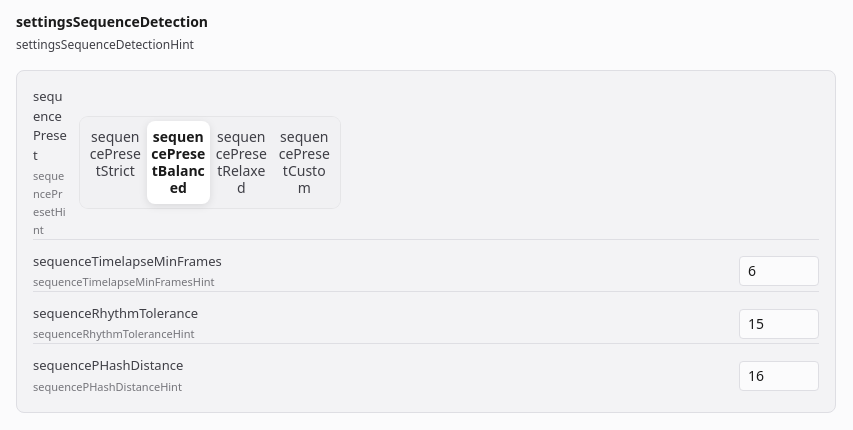
Test: settings save failures › does not let a late sequence load replace a queued change
This screenshot has width=853, height=430.
Click the radio button labelled "sequencePresetStrict" at (115, 154), box [90, 127, 141, 180]
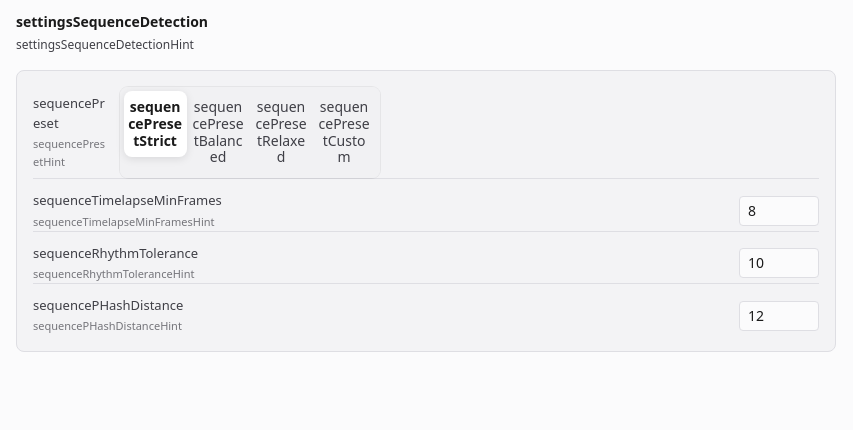
Expected: the radio button labelled "sequencePresetStrict" is checked, [124, 91, 187, 174]
Expected: the radio button labelled "sequencePresetBalanced" is not checked, [192, 97, 244, 166]
